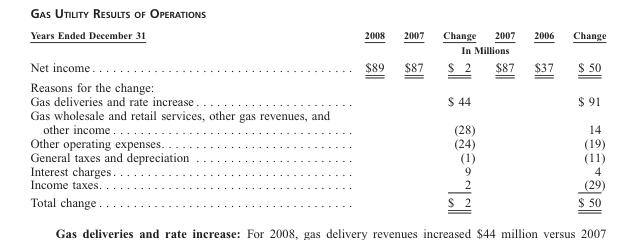table: (29, 29, 605, 208)
table column: (29, 29, 346, 208), (432, 29, 484, 208), (346, 29, 393, 208), (562, 29, 605, 208), (393, 29, 432, 208), (484, 29, 523, 208), (523, 29, 562, 208)
table column header: (29, 29, 605, 57)
table projected row header: (29, 76, 605, 93)
table row: (29, 107, 605, 135), (29, 57, 605, 76), (29, 76, 605, 93), (29, 177, 605, 193), (29, 42, 605, 57), (29, 193, 605, 208), (29, 93, 605, 107), (29, 135, 605, 149), (29, 149, 605, 163), (29, 163, 605, 177), (29, 29, 605, 42)
table spanning cell: (29, 29, 346, 57), (346, 42, 605, 57)
